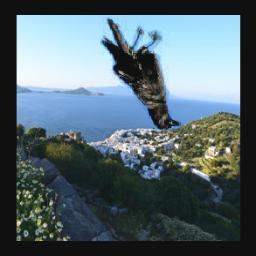Crow: (101, 18, 186, 133)
